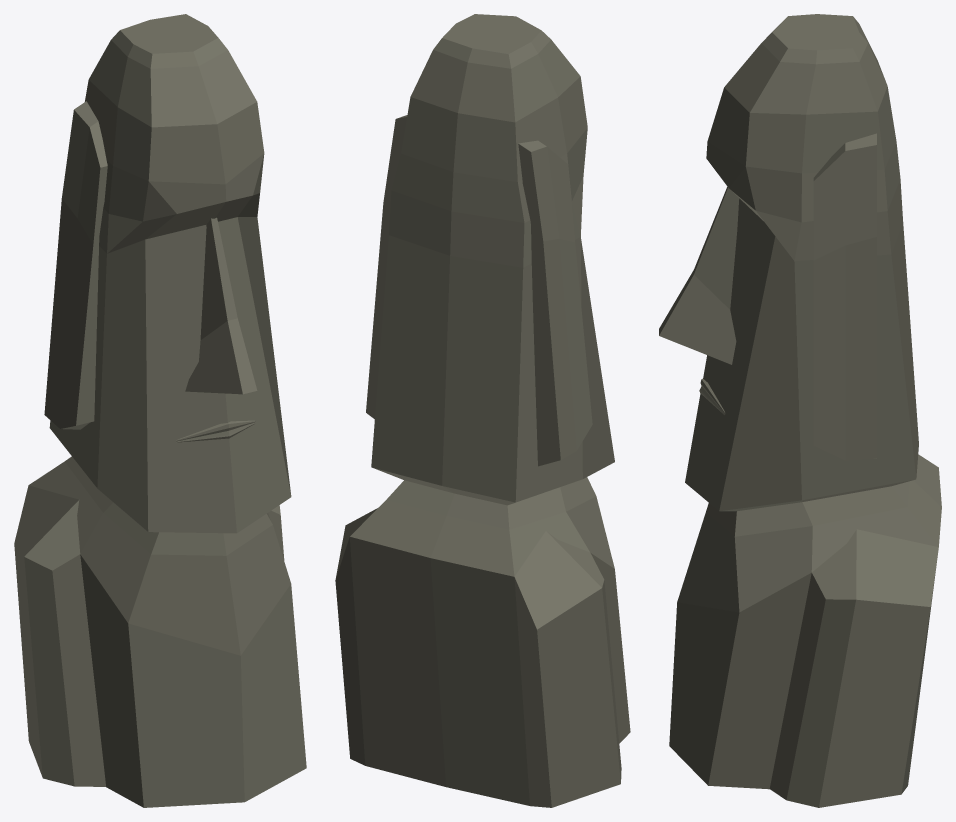
Rendered from Stone_Head.fbx.
3 views of the same model, side by side, from view 1: azimuth 30°, elevation 25°; view 2: azimuth 150°, elevation 25°; view 3: azimuth 270°, elevation 25° (orthographic).
Parts seen in each view (by area): view 1: Stone_Head; view 2: Stone_Head; view 3: Stone_Head.
Part boxes in pixels (<box>): Stone_Head: <box>14,14,306,807</box>; Stone_Head: <box>335,14,630,807</box>; Stone_Head: <box>659,14,941,807</box>.
Bounding box in the file's own units: 114 × 304 × 109.
